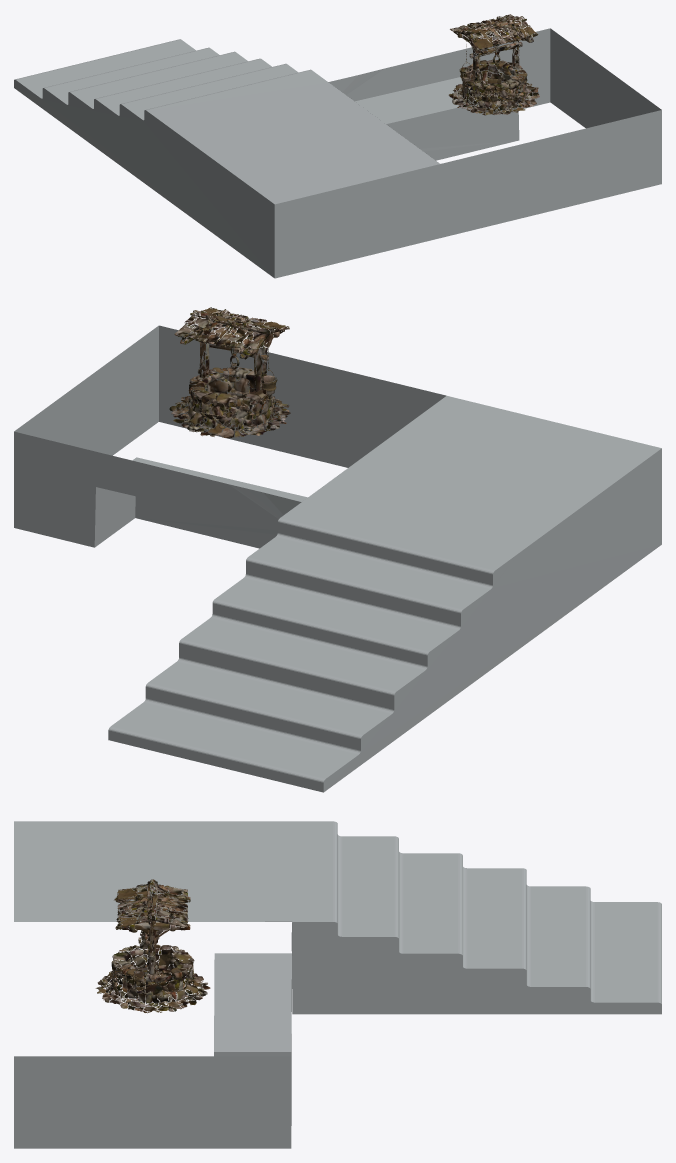
Rendered from Niflheim_Well_Assembly.glb.
The picture shows the model from 3 angles, top to bottom: view 1: azimuth 30°, elevation 25°; view 2: azimuth 150°, elevation 25°; view 3: azimuth 270°, elevation 25°; orthographic projection. The views are drawn at different scales.
Visible parts, largest first — view 1: Widened staircase and landing — Mehdi Shahsavana, Medieval stone well — Pigcraft; view 2: Widened staircase and landing — Mehdi Shahsavana, Medieval stone well — Pigcraft; view 3: Widened staircase and landing — Mehdi Shahsavana, Medieval stone well — Pigcraft.
Part boxes in pixels (x1,y1,x2,y2): Widened staircase and landing — Mehdi Shahsavana: [14, 28, 661, 278]; Medieval stone well — Pigcraft: [448, 14, 539, 115]; Widened staircase and landing — Mehdi Shahsavana: [14, 325, 661, 792]; Medieval stone well — Pigcraft: [169, 307, 290, 438]; Widened staircase and landing — Mehdi Shahsavana: [14, 821, 661, 1148]; Medieval stone well — Pigcraft: [95, 879, 210, 1013].
Bounding box in the file's own units: 7.45 × 2.73 × 8.68.
2 materials, 1 textured.
